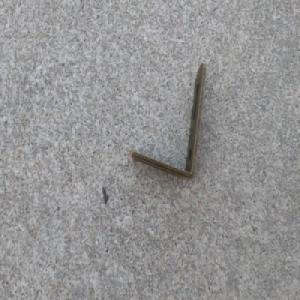MetalPart: (129, 62, 207, 181)
